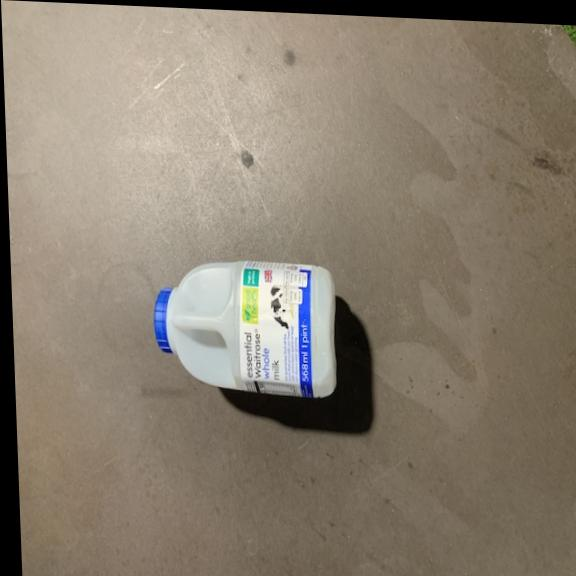Plastik: (149, 256, 338, 401)
